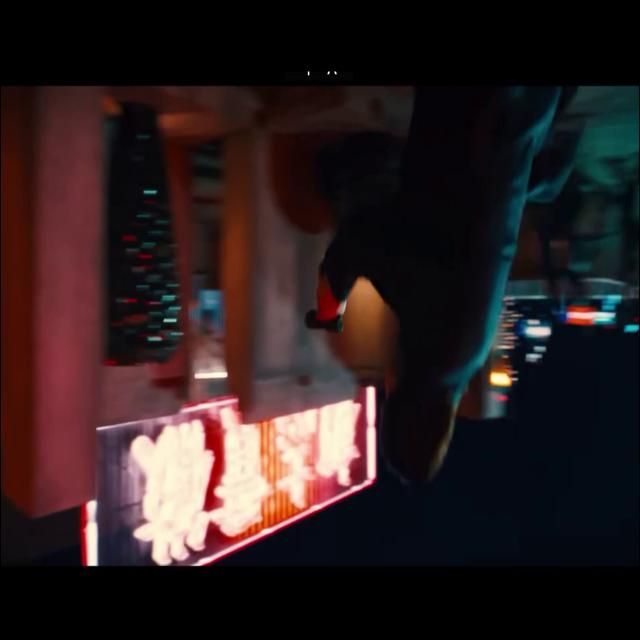weapons: (294, 250, 352, 344)
